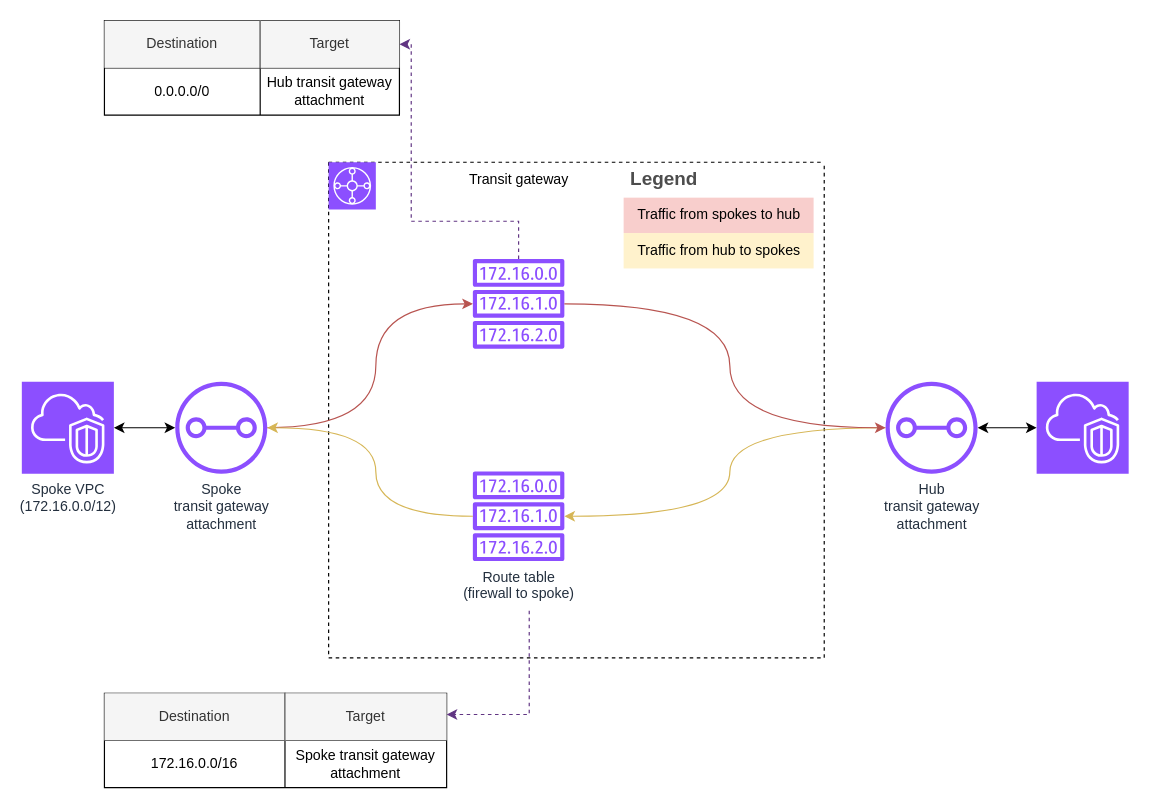
Some shapes in this 1149 by 808 pixel diagram are drawn without their labels. The shapes that lost their labels are listed below. From the top down, each one's centre as x and y in pixels, then its label:
(518,303): Route table (spoke to firewall)
(1082,427): Hub VPC
